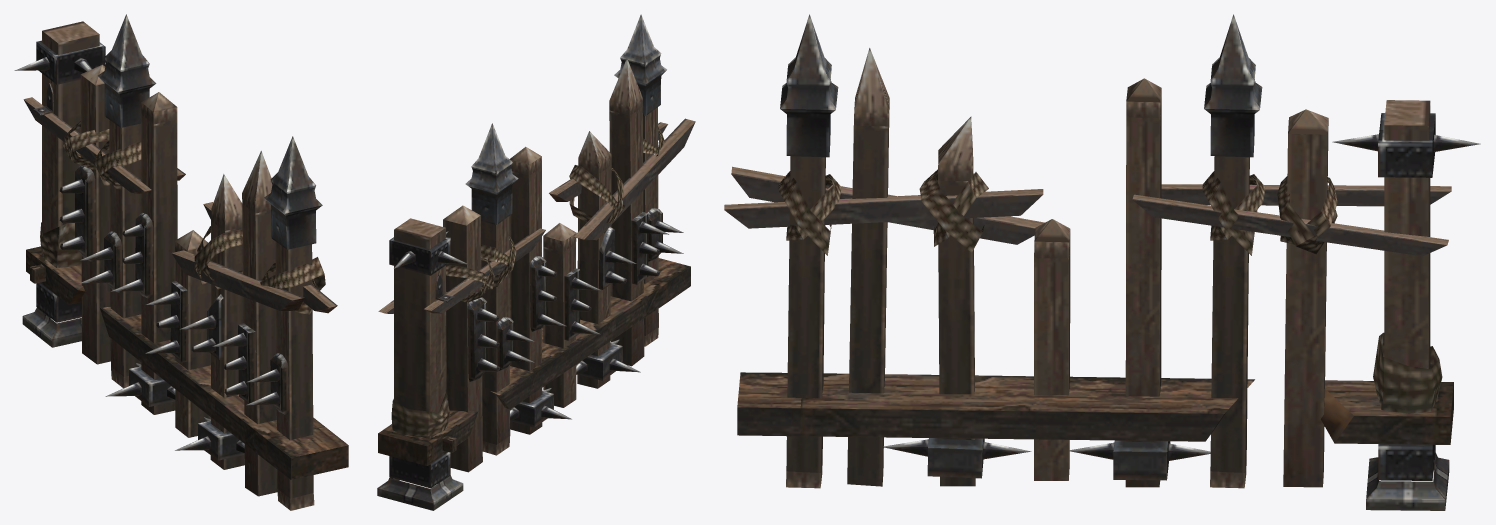
File: 4005_Item_zhalan_4.FBX
3 renders of one model, left to right at view 1: azimuth 30°, elevation 25°; view 2: azimuth 150°, elevation 25°; view 3: azimuth 270°, elevation 25°, orthographic. The views are drawn at different scales.
Visible parts, largest first — view 1: 4005_Item_zhalan_4; view 2: 4005_Item_zhalan_4; view 3: 4005_Item_zhalan_4.
Part boxes in pixels (x1,y1,x2,y2): 4005_Item_zhalan_4: (14,14,348,510); 4005_Item_zhalan_4: (377,14,695,510); 4005_Item_zhalan_4: (724,14,1480,510).
Size of the model in its own units: 188 by 629 by 919.
